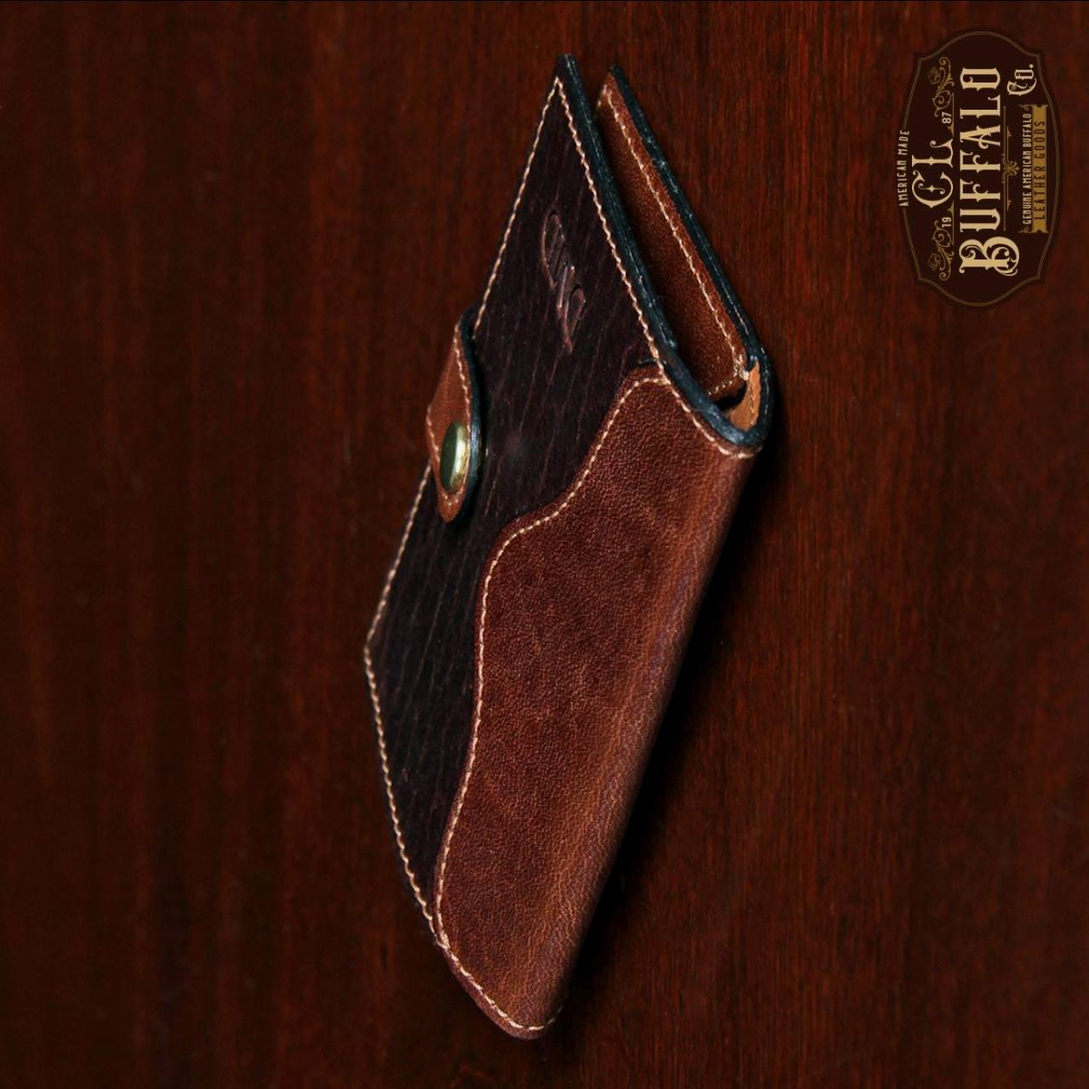wallet: (264, 37, 820, 1054)
